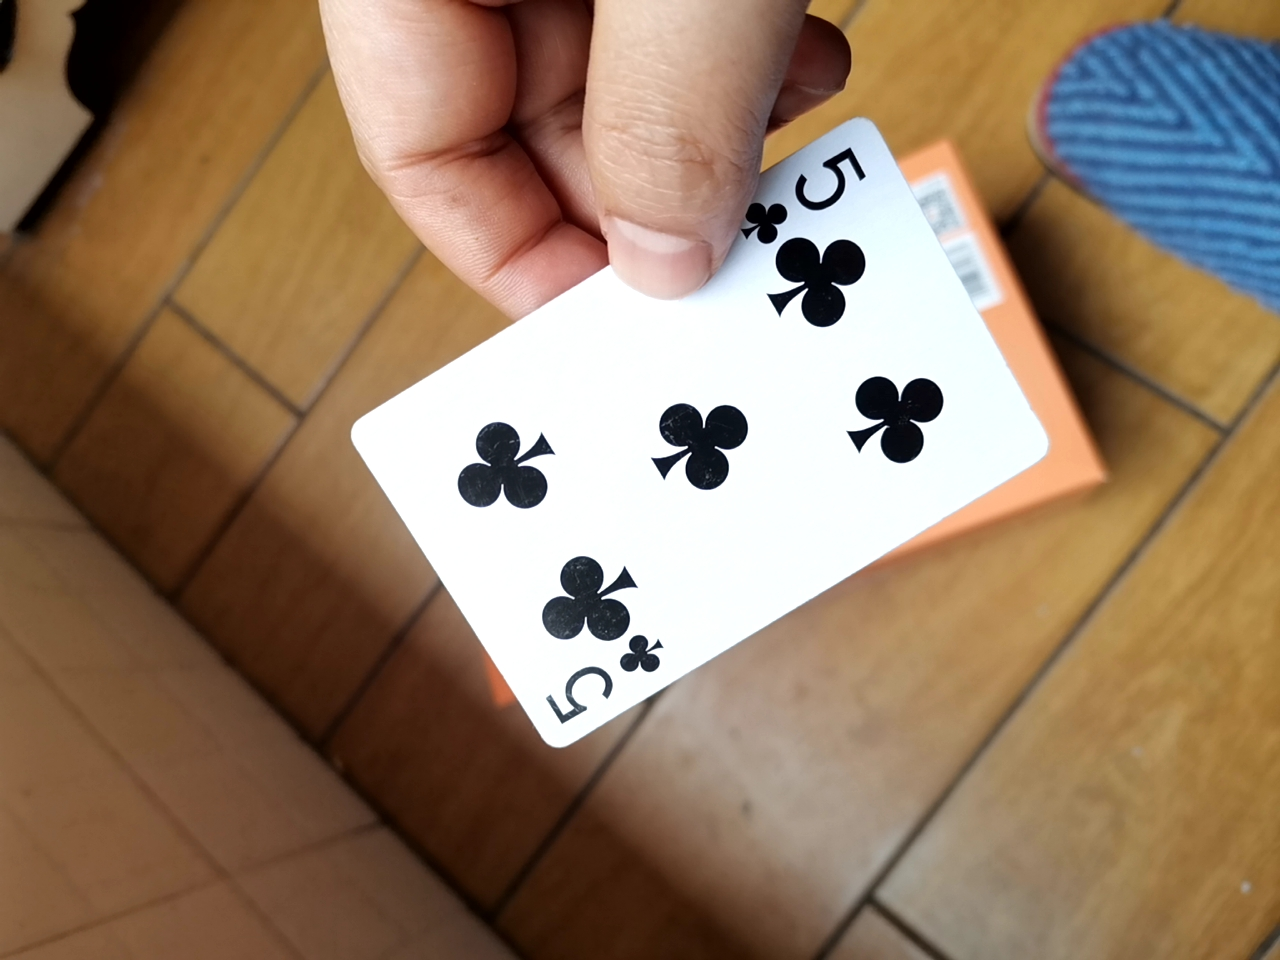mh 5: (328, 119, 1064, 755)
